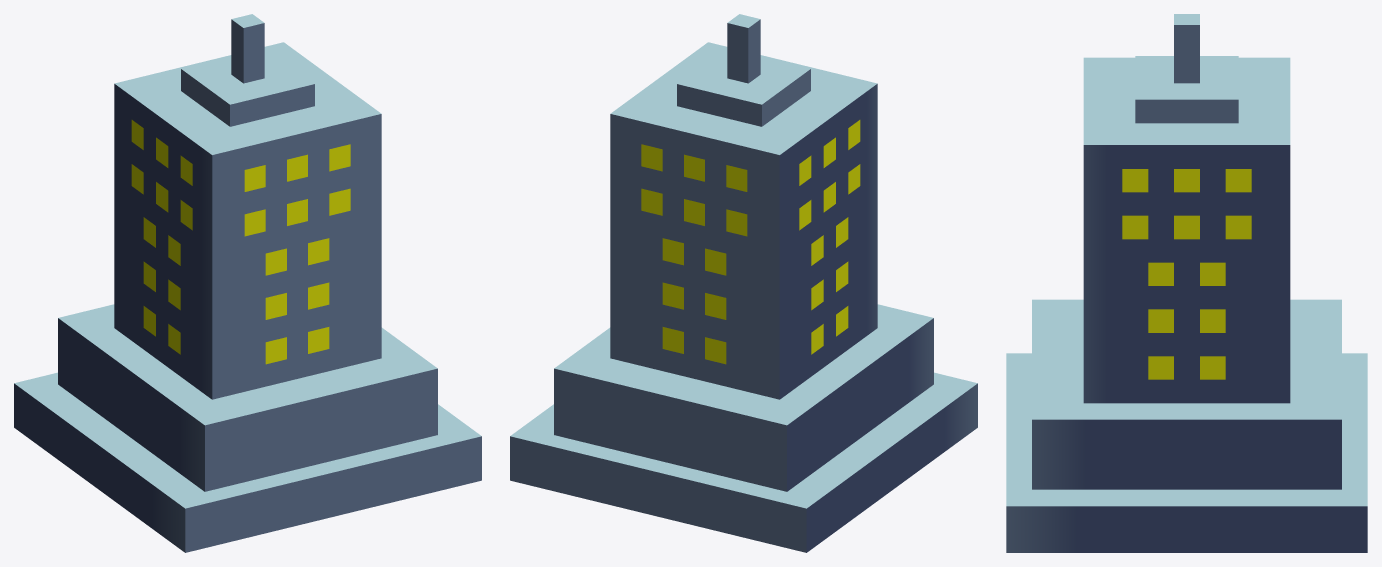
The model's file is HQ.OrangeStar.SilverClaw.glb.
3 views of the same model, side by side, from view 1: azimuth 30°, elevation 25°; view 2: azimuth 150°, elevation 25°; view 3: azimuth 270°, elevation 25° (orthographic). The views are drawn at different scales.
Visible parts, largest first — view 1: HQ.OrangeStar.SilverClaw; view 2: HQ.OrangeStar.SilverClaw; view 3: HQ.OrangeStar.SilverClaw.
Part boxes in pixels (<box>): HQ.OrangeStar.SilverClaw: <box>14,14,481,552</box>; HQ.OrangeStar.SilverClaw: <box>510,14,977,552</box>; HQ.OrangeStar.SilverClaw: <box>1006,14,1367,552</box>.
Size of the model in its own units: 2.8 by 3.91 by 2.8.
2 materials, 1 textured.
